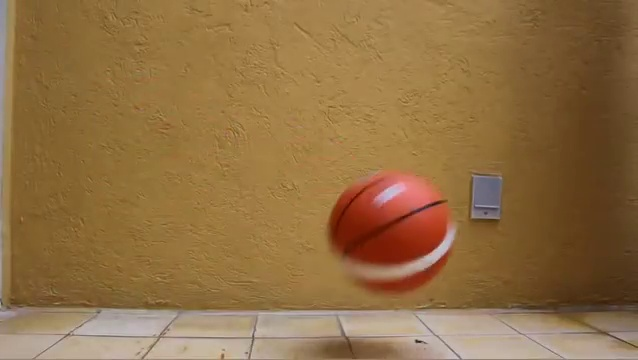ball: (327, 168, 457, 295)
